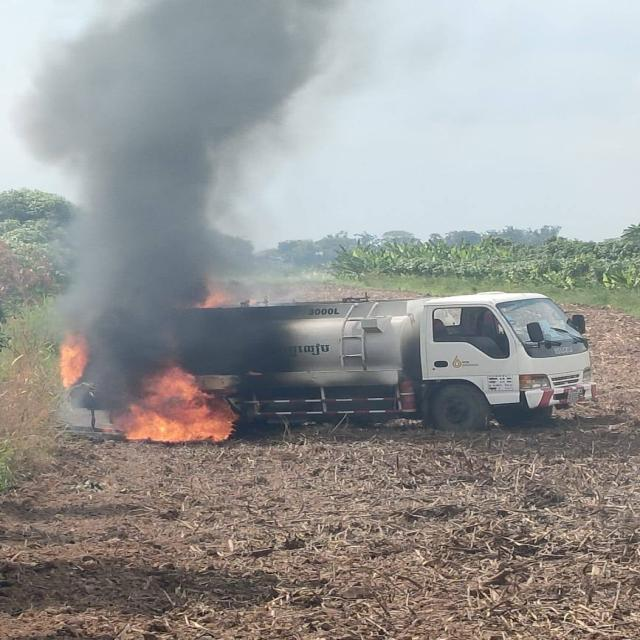Fire: (124, 376, 234, 444)
Smoke: (84, 48, 198, 352)
